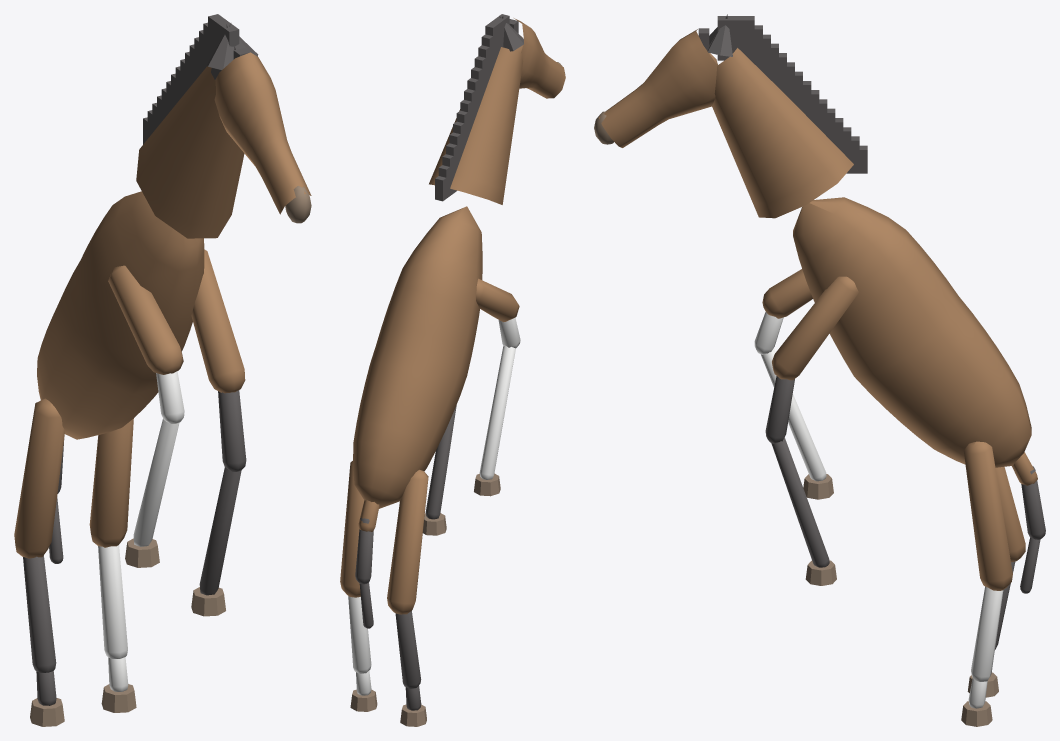
Rendered from riding-horse-rearing-bay.glb.
3 views of the same model, side by side, from view 1: azimuth 30°, elevation 25°; view 2: azimuth 150°, elevation 25°; view 3: azimuth 270°, elevation 25° (orthographic). The views are drawn at different scales.
Visible parts, largest first — view 1: horse-rearing; view 2: horse-rearing; view 3: horse-rearing.
Boxes of the visible parts, bbox=[...] form: horse-rearing: bbox=[14, 14, 311, 726]; horse-rearing: bbox=[340, 14, 565, 726]; horse-rearing: bbox=[594, 14, 1045, 726].
Bounding box in the file's own units: 0.4689 × 3.5 × 2.07.
